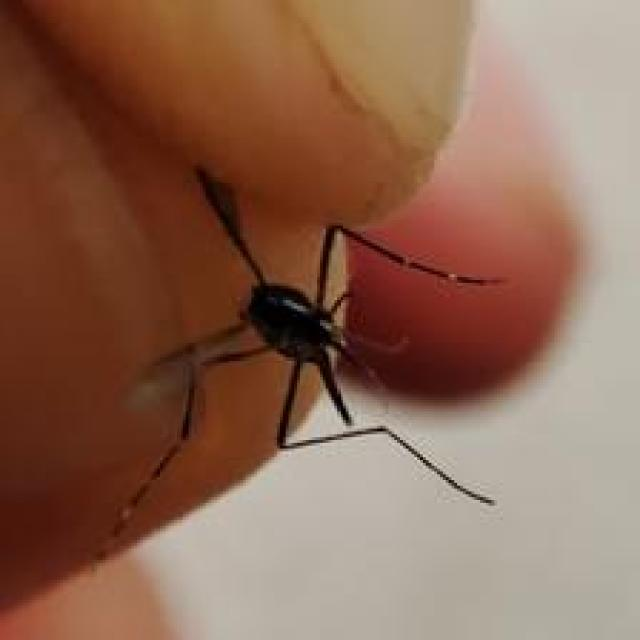Aedes albopictus: (93, 163, 507, 560)
